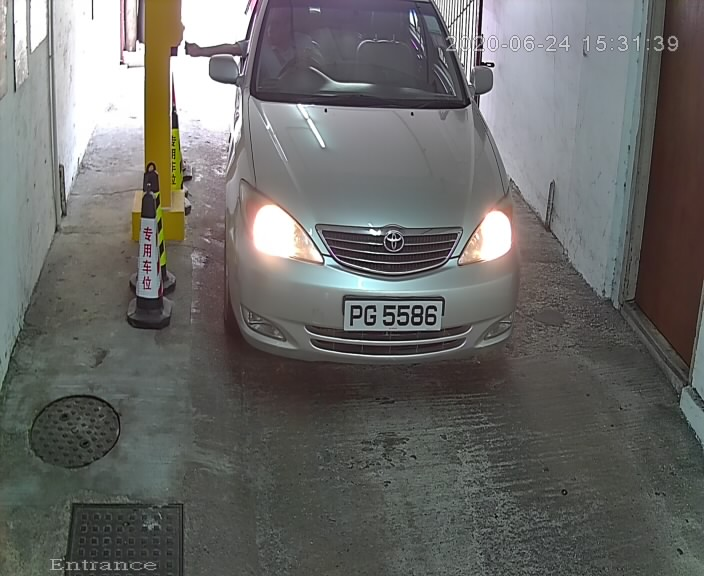Car: (189, 1, 549, 398)
License Plate: (341, 295, 449, 339)
